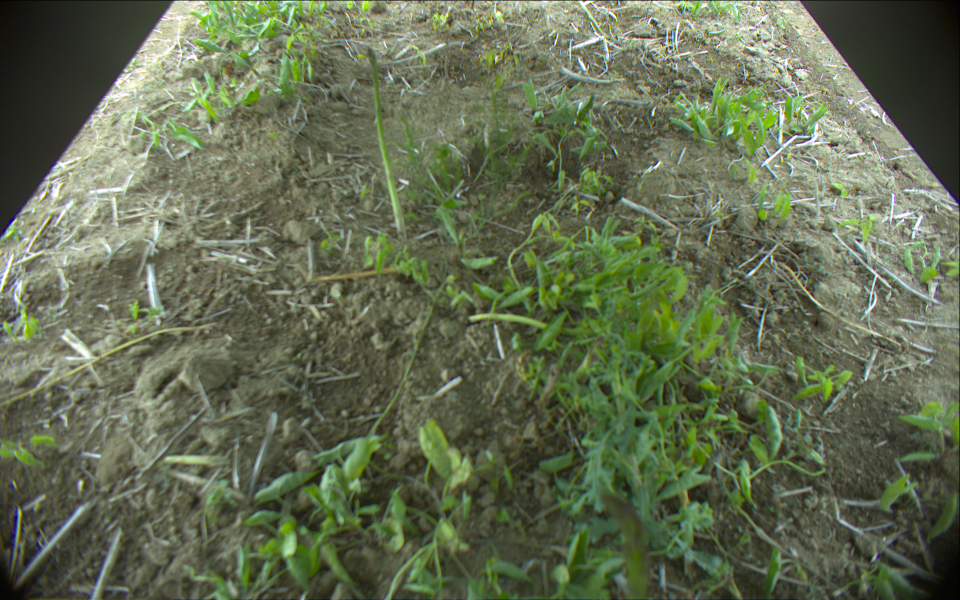aspa: (365, 47, 408, 243)
